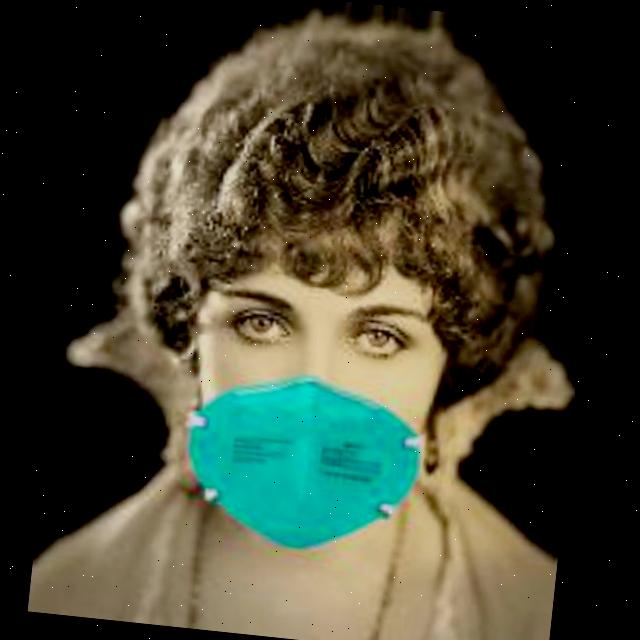suspicion: (98, 95, 520, 575)
